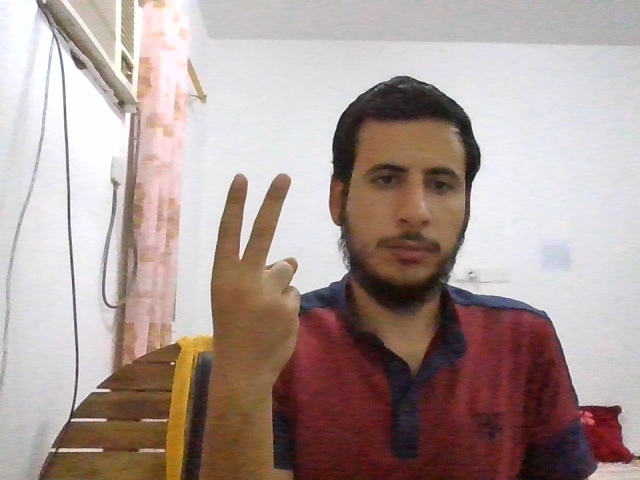Two: (210, 173, 301, 373)
